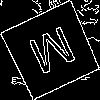M: (26, 25, 83, 85)
